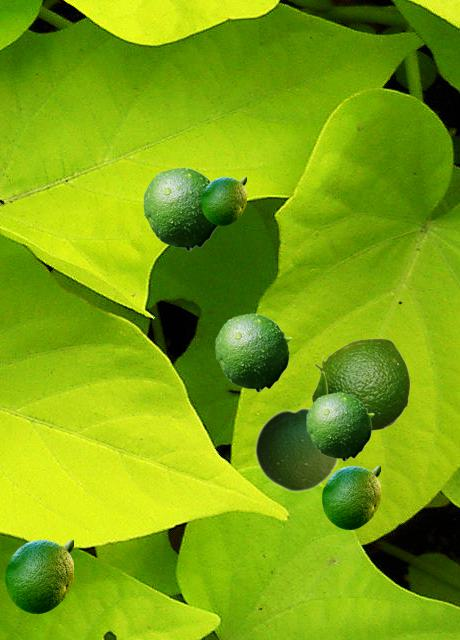dalandan: (311, 338, 409, 431), (254, 407, 339, 492), (143, 167, 218, 250), (215, 313, 291, 391), (5, 540, 72, 612), (306, 392, 373, 460), (322, 466, 379, 528), (201, 177, 245, 224)
